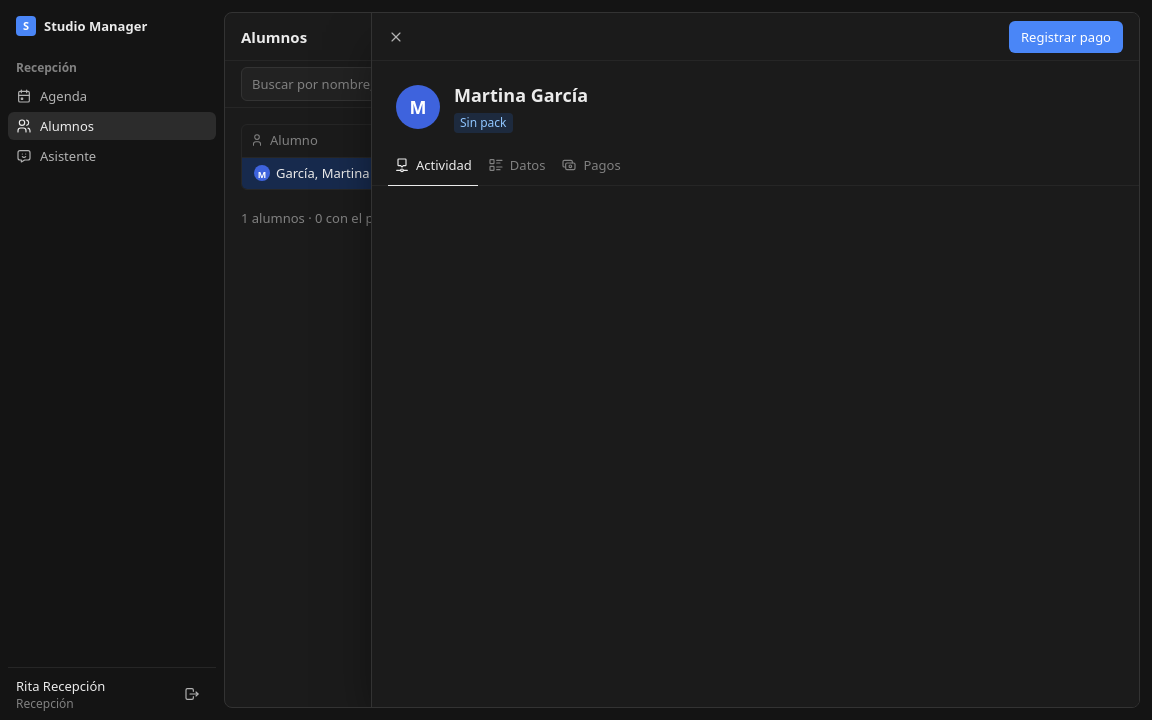
Test: /alumnos/:id › la pestaña Pagos muestra cada pago con su estado, sus clases y el monto en pesos
Click the tab "Pagos".
click(591, 166)  # box [555, 145, 627, 186]
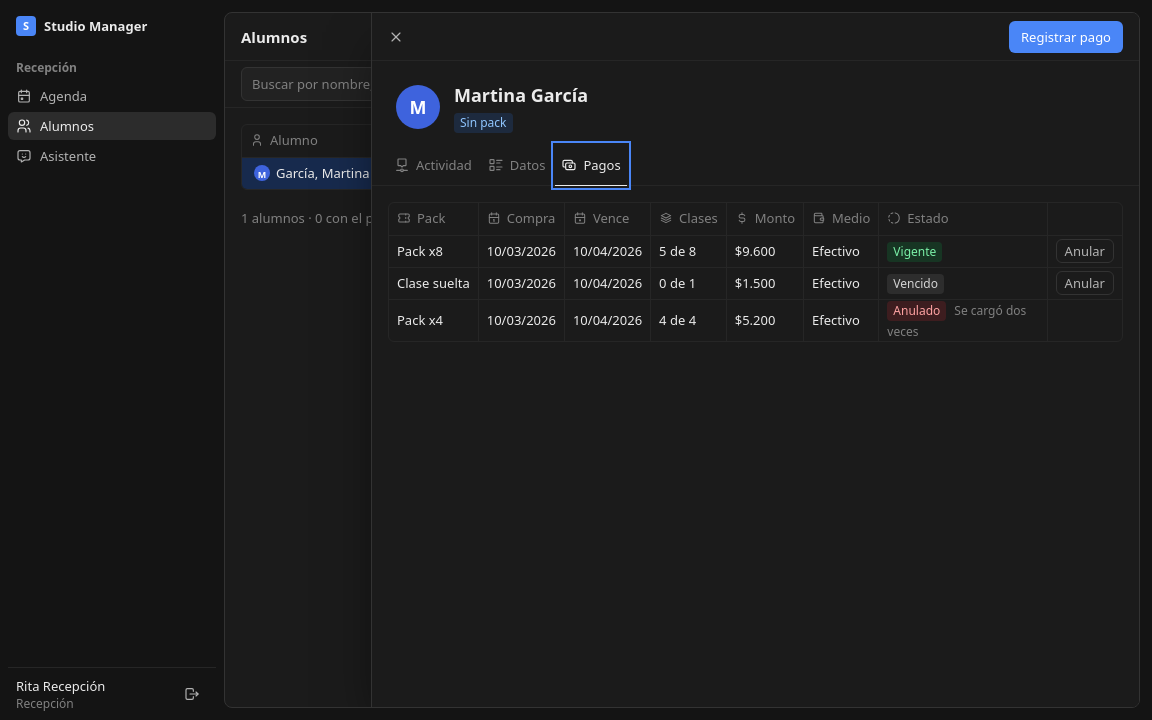
Now the text "5 de 8" is shown, box [651, 235, 726, 267]
Now the text "$9.600" is shown, box [726, 235, 804, 267]
Now the text "Vigente" is shown, box [887, 242, 942, 262]
